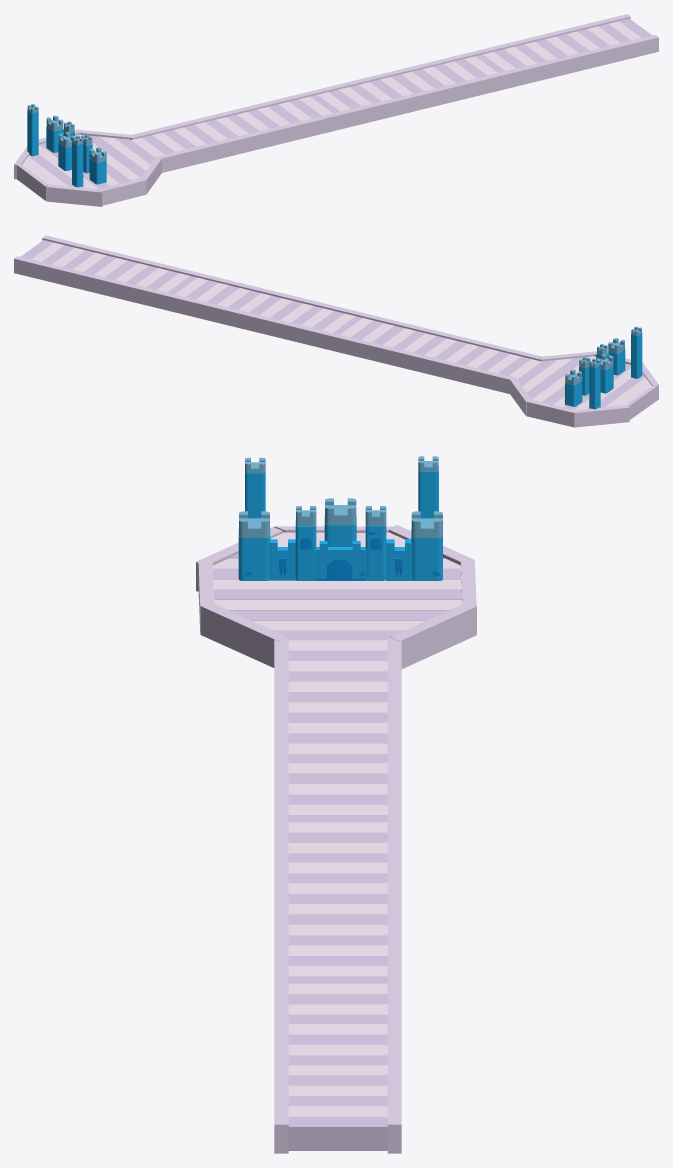
File: yol_ve_kale.fbx
3 views of the same model, one above another, from view 1: azimuth 30°, elevation 25°; view 2: azimuth 150°, elevation 25°; view 3: azimuth 270°, elevation 25° (orthographic). The views are drawn at different scales.
Visible parts, largest first — view 1: Cube.028, Cube.092; view 2: Cube.028, Cube.092; view 3: Cube.028, Cube.092.
Boxes of the visible parts, left/top/right/bottom form: Cube.028: left=14, top=14, right=658, bottom=206; Cube.092: left=27, top=104, right=106, bottom=187; Cube.028: left=14, top=235, right=658, bottom=427; Cube.092: left=565, top=326, right=642, bottom=409; Cube.028: left=196, top=525, right=476, bottom=1153; Cube.092: left=238, top=456, right=442, bottom=580.
Size of the model in its own units: 14173 by 1332 by 2810.
